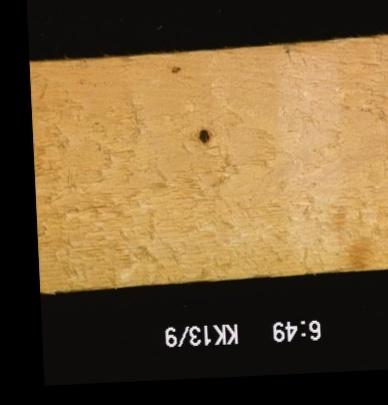dry_knot: (196, 126, 212, 145)
small_knot: (167, 63, 183, 76)
